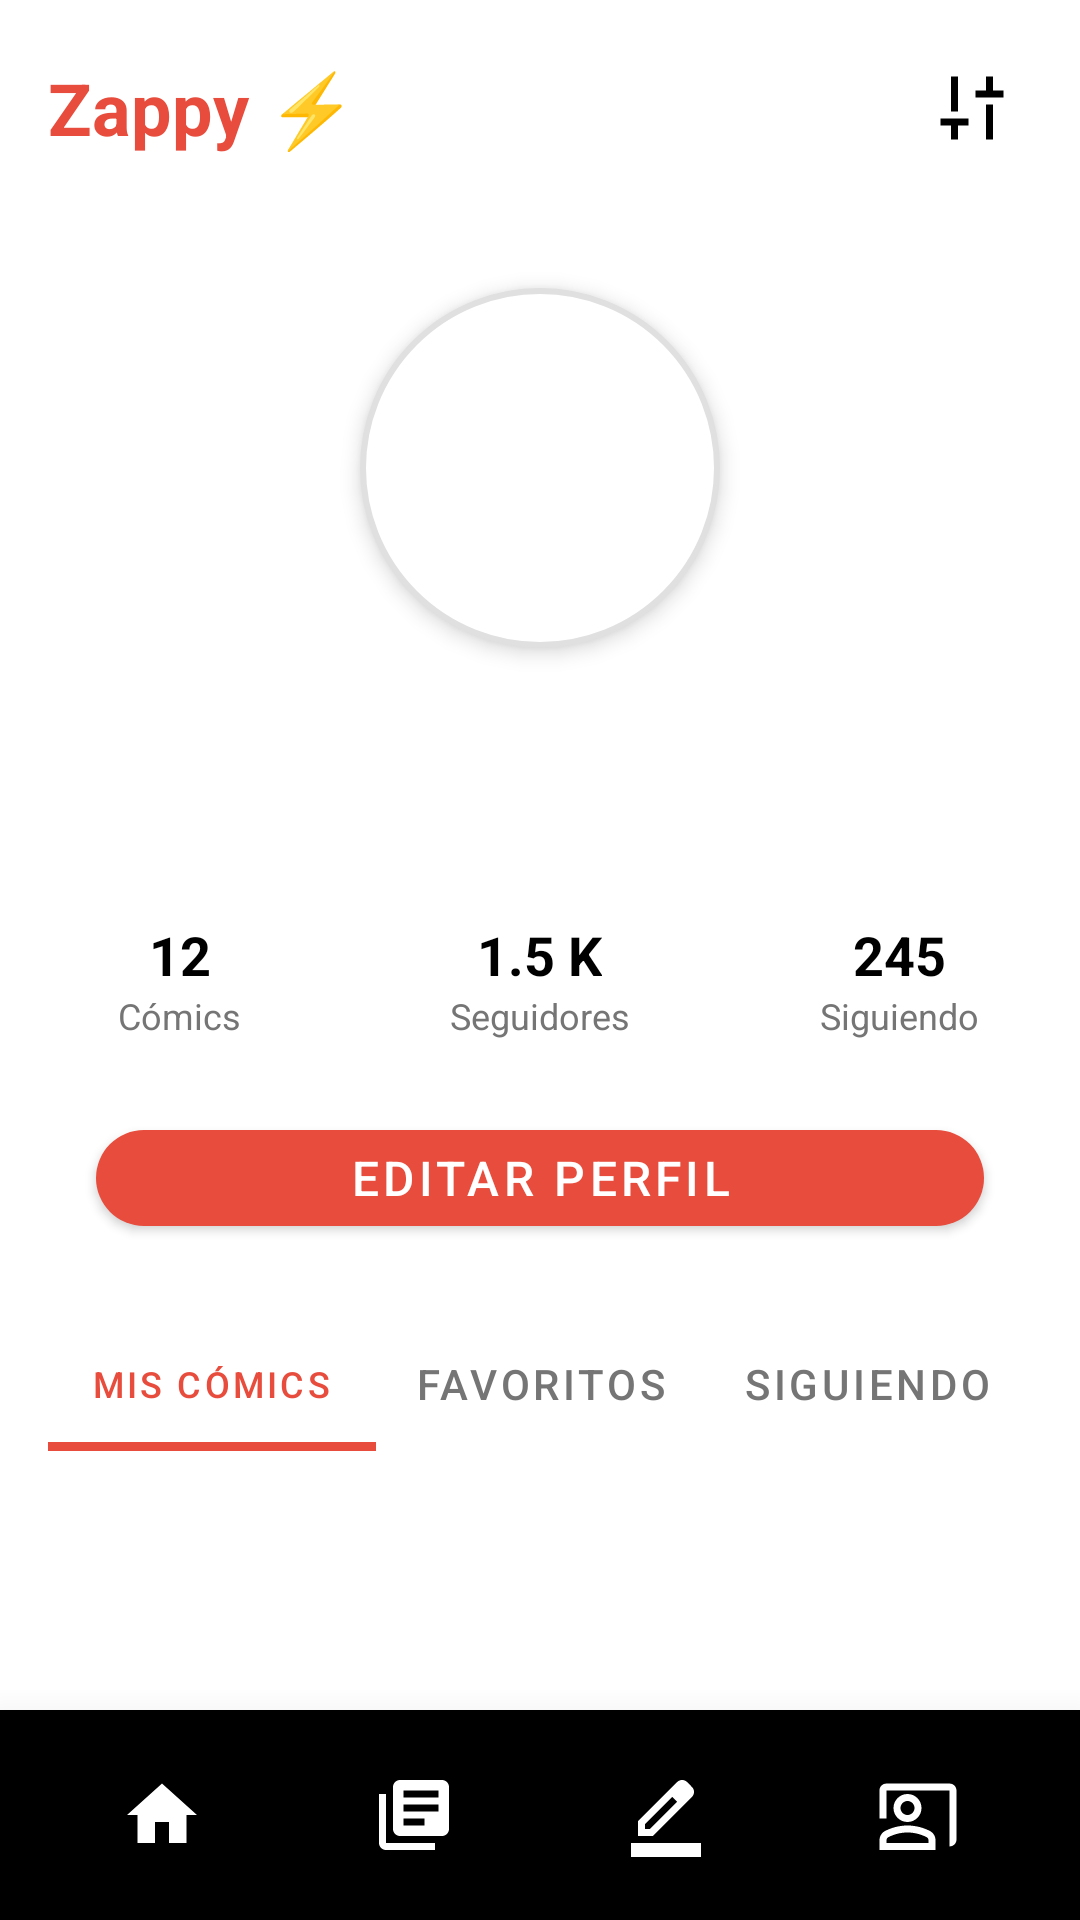

Named icons in this screenshot (1080 × 1920) and their centers, point (x, y):
edit: point (666, 1818)
home: point (162, 1813)
library: point (414, 1815)
profile: point (918, 1816)
Settings: point (972, 108)
